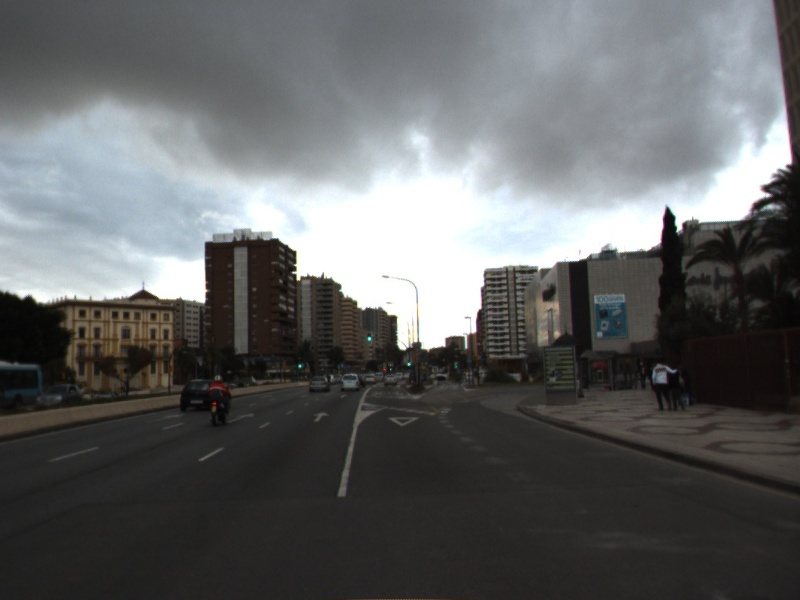STRAIGHT: (227, 411, 257, 424), (311, 410, 331, 424)
